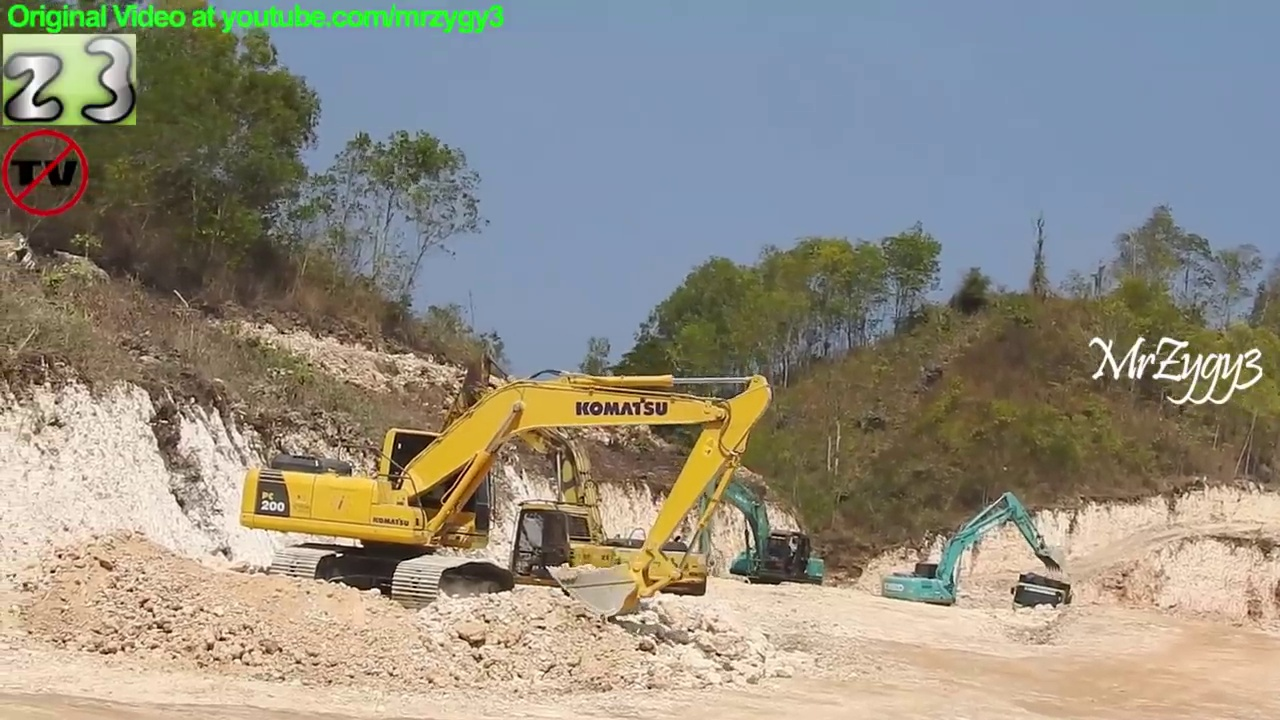excavator: (234, 361, 778, 626), (406, 358, 717, 619), (878, 488, 1068, 624), (678, 441, 827, 602)
truck: (1007, 568, 1078, 640)
